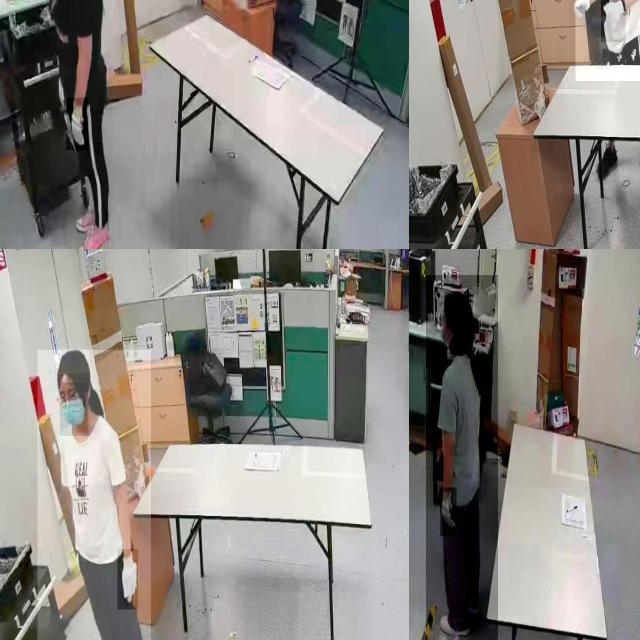face_mask: (60, 383, 88, 436)
glasses: (56, 388, 82, 411)
hand_glove: (118, 549, 138, 610), (67, 98, 89, 151), (601, 0, 626, 42), (440, 488, 457, 538), (569, 0, 592, 24)
head_nohelmet: (56, 348, 90, 375), (444, 291, 472, 312)
person: (37, 349, 151, 640), (425, 275, 498, 640), (34, 0, 117, 249), (575, 0, 640, 82)
shoes: (437, 607, 473, 640), (594, 142, 618, 184), (77, 221, 112, 249)
